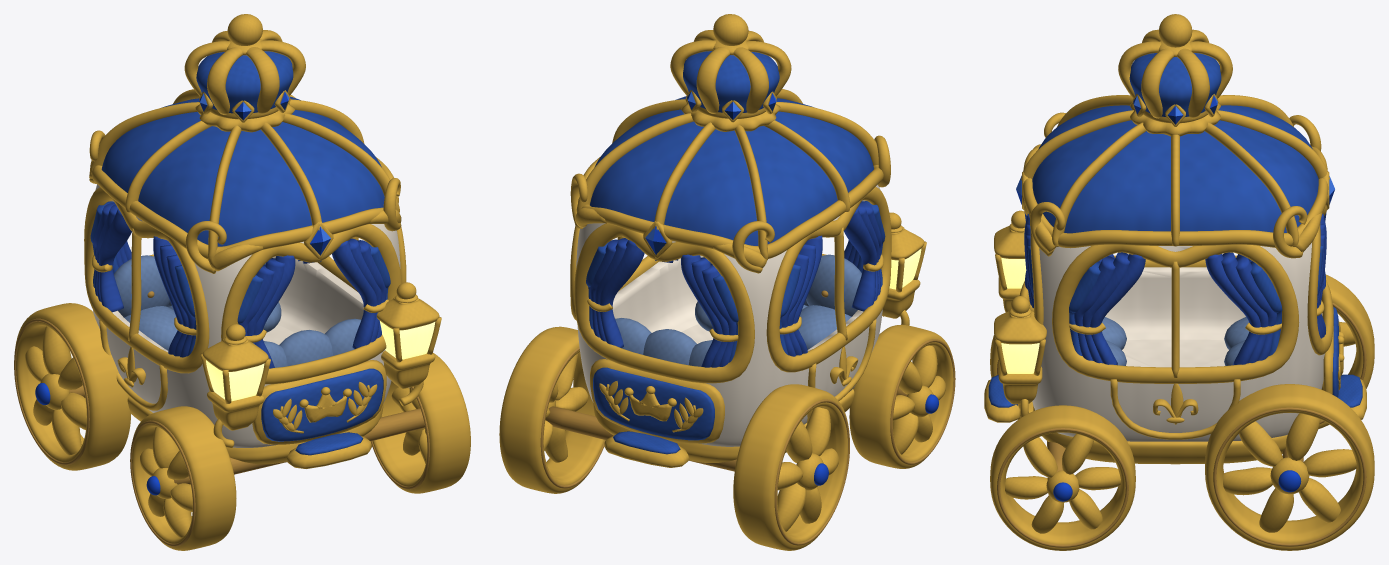
File: RoyalCarriage.glb
3 views of the same model, side by side, from view 1: azimuth 30°, elevation 25°; view 2: azimuth 150°, elevation 25°; view 3: azimuth 270°, elevation 25° (orthographic). The views are drawn at different scales.
Parts seen in each view (by area): view 1: Scalloped blue coach canopy, Porcelain coach body, Rolled cast-gold wheel rim.001, Rolled cast-gold wheel rim, Rolled cast-gold wheel rim.002, Cast double-arched window frame, Cast double-arched window frame.002, Inset enamel heraldic plaque, Sculpted wave along canopy hem, Crown's upholstered royal-blue cap, Tufted velvet backrest.003, Gilt coach heraldic plaque (+51 smaller); view 2: Scalloped blue coach canopy, Porcelain coach body, Rolled cast-gold wheel rim.001, Rolled cast-gold wheel rim.003, Rolled cast-gold wheel rim, Cast double-arched window frame.001, Cast double-arched window frame.002, Inset enamel heraldic plaque.001, Sculpted wave along canopy hem, Crown's upholstered royal-blue cap, Gilt coach heraldic plaque.001, Tufted velvet backrest (+53 smaller); view 3: Porcelain coach body, Scalloped blue coach canopy, Rolled cast-gold wheel rim.003, Cast double-arched window frame.003, Rolled cast-gold wheel rim.002, Sculpted wave along canopy hem, Coach floor and gilded undercarriage, Crown's upholstered royal-blue cap, Rolled cast-gold wheel rim.001, Cast double-arched window frame.001, Raised hub lip on rim.007, Broad gilded roof rib.001 (+53 smaller).
Part boxes in pixels (<box>): Scalloped blue coach canopy: <box>101,96,384,246</box>; Porcelain coach body: <box>93,184,400,447</box>; Rolled cast-gold wheel rim.001: <box>15,303,130,470</box>; Rolled cast-gold wheel rim: <box>132,406,236,550</box>; Rolled cast-gold wheel rim.002: <box>372,353,470,493</box>; Cast double-arched window frame: <box>221,224,401,384</box>; Cast double-arched window frame.002: <box>84,187,209,373</box>; Inset enamel heraldic plaque: <box>261,368,383,441</box>; Sculpted wave along canopy hem: <box>91,157,398,259</box>; Crown's upholstered royal-blue cap: <box>196,51,293,113</box>; Tufted velvet backrest.003: <box>114,255,169,317</box>; Gilt coach heraldic plaque: <box>252,360,386,444</box>; Scalloped blue coach canopy: <box>590,96,873,245</box>; Porcelain coach body: <box>576,184,882,446</box>; Rolled cast-gold wheel rim.001: <box>733,384,849,550</box>; Rolled cast-gold wheel rim.003: <box>499,326,604,493</box>; Rolled cast-gold wheel rim: <box>849,324,953,468</box>; Cast double-arched window frame.001: <box>574,223,754,383</box>; Cast double-arched window frame.002: <box>766,186,891,372</box>; Inset enamel heraldic plaque.001: <box>593,367,714,440</box>; Sculpted wave along canopy hem: <box>578,156,883,258</box>; Crown's upholstered royal-blue cap: <box>683,51,779,112</box>; Gilt coach heraldic plaque.001: <box>590,359,724,443</box>; Tufted velvet backrest: <box>806,254,861,316</box>; Porcelain coach body: <box>1032,243,1324,441</box>; Scalloped blue coach canopy: <box>1032,105,1318,233</box>; Rolled cast-gold wheel rim.003: <box>1205,384,1374,550</box>; Cast double-arched window frame.003: <box>1052,244,1299,383</box>; Rolled cast-gold wheel rim.002: <box>990,405,1135,550</box>; Sculpted wave along canopy hem: <box>1023,146,1328,248</box>; Coach floor and gilded undercarriage: <box>1033,405,1287,464</box>; Crown's upholstered royal-blue cap: <box>1129,53,1221,116</box>; Rolled cast-gold wheel rim.001: <box>1318,274,1374,428</box>; Cast double-arched window frame.001: <box>1307,205,1333,355</box>; Raised hub lip on rim.007: <box>1213,407,1366,546</box>; Broad gilded roof rib.001: <box>1204,122,1298,246</box>.
Bounding box in the file's own units: 0.6935 × 1 × 0.7538.
11 materials, 11 textured.
